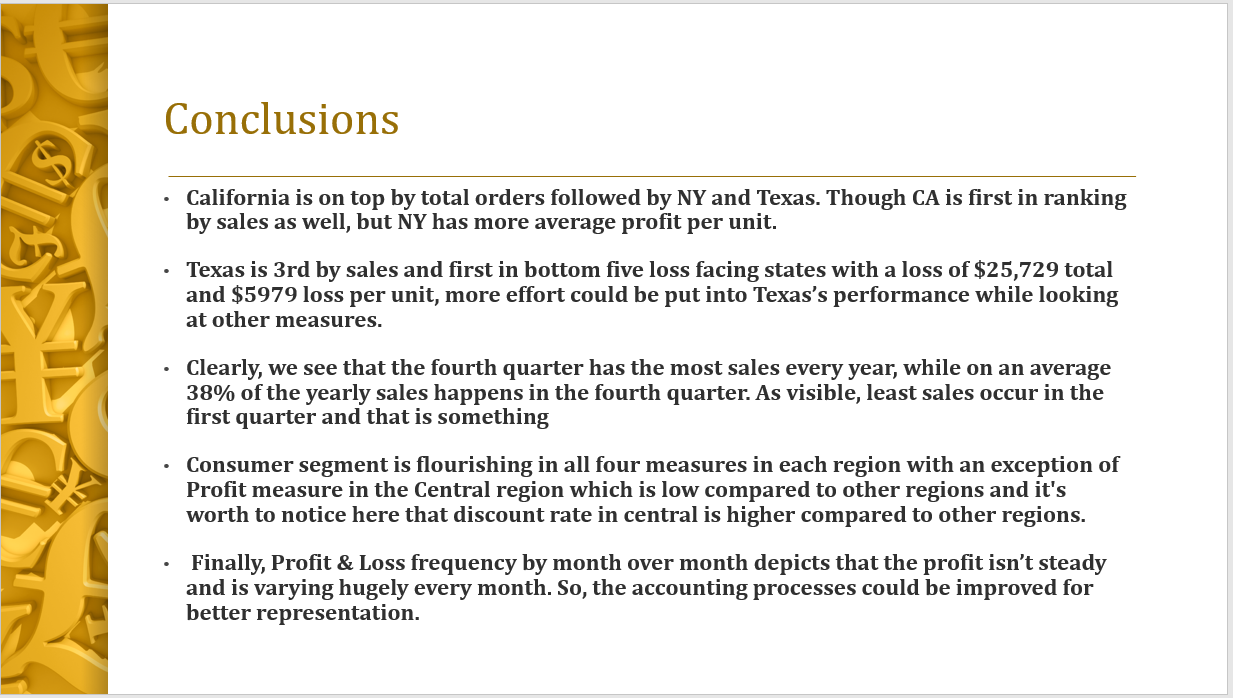

The dashboard page shown, as its layout file describes it:
{"tool":"tableau","page":{"name":"Conclusion","canvas":[1000,1000],"units":"permille","ordinal":0},"visuals":[{"type":"worksheet","box":[0,0,1000,1000]},{"type":"worksheet","param":"Image/FinalPage.PNG","box":[4.8,9.3,990.3,981.4]}]}

Visuals, with their boxes on the dashboard's canvas, which has no fixed pixel size, in thousandths of its width and height (x1, y1, x2, y2). These are canvas units, not pixel positions in the 1233x698 screenshot, which may show the page scaled, cropped or inside an application window:
worksheet: (0,0,1000,1000)
worksheet: (5,9,995,991)
